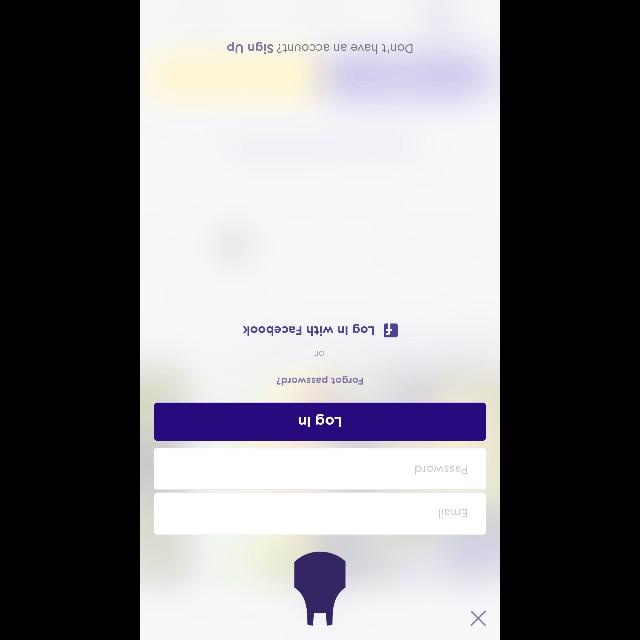icon: (470, 610, 486, 626), (384, 323, 398, 337)
image: (294, 551, 346, 625)
input: (154, 448, 486, 490), (154, 492, 486, 534)
text: (228, 42, 412, 54), (242, 324, 374, 336), (277, 376, 363, 386), (416, 466, 466, 474), (439, 508, 467, 518), (316, 350, 324, 356)
textbutton: (154, 402, 486, 440)
